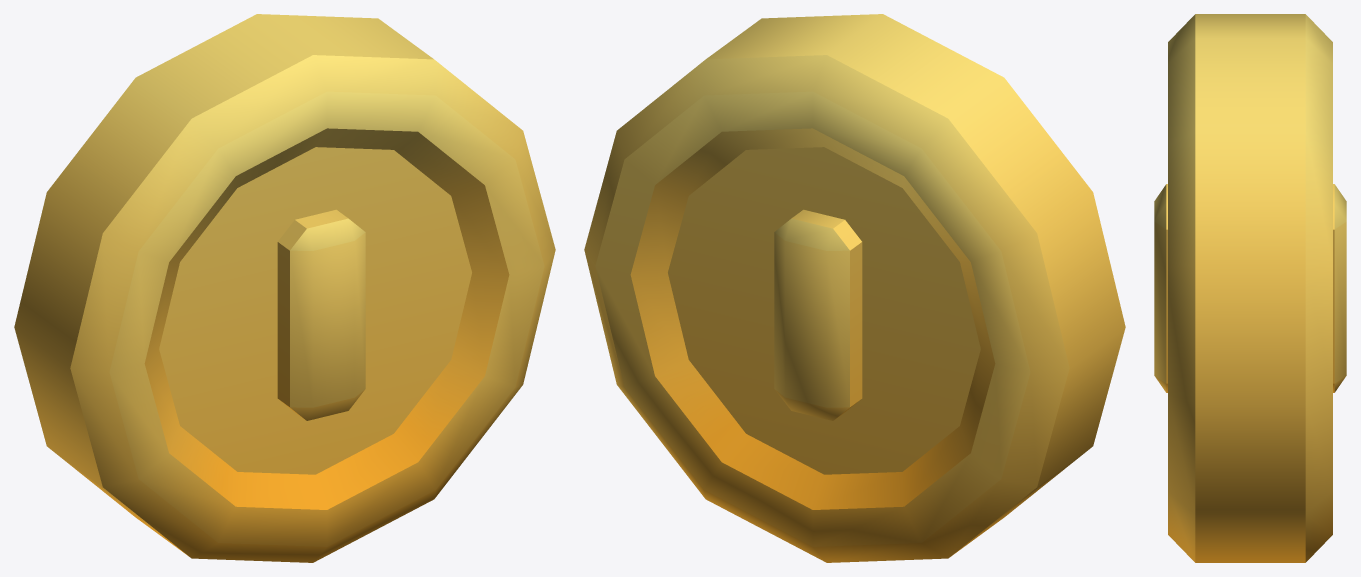
Rendered from coin.glb.
3 views of the same model, side by side, from view 1: azimuth 30°, elevation 25°; view 2: azimuth 150°, elevation 25°; view 3: azimuth 270°, elevation 25° (orthographic).
Parts seen in each view (by area): view 1: Coin_A; view 2: Coin_A; view 3: Coin_A.
Part boxes in pixels (x1,y1,x2,y2): Coin_A: [14, 14, 555, 562]; Coin_A: [584, 14, 1125, 562]; Coin_A: [1154, 14, 1346, 562].
Size of the model in its own units: 1 by 1 by 0.3492.
Materials: 1 (1 with a texture image).
